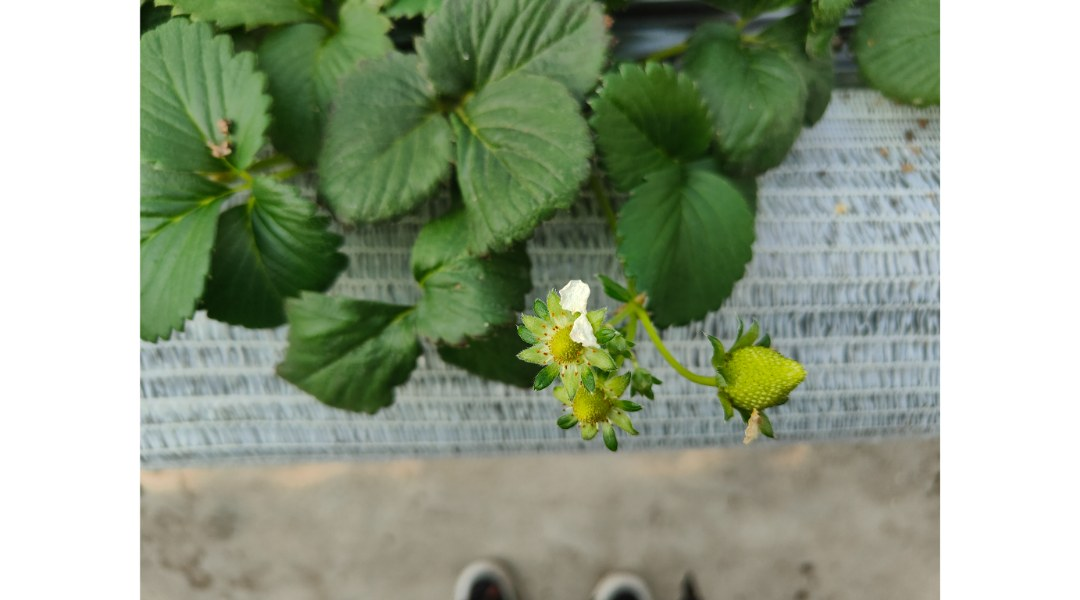berry: (698, 326, 826, 418)
flower: (508, 271, 599, 392), (554, 368, 632, 458)
strain: (641, 316, 701, 374)
